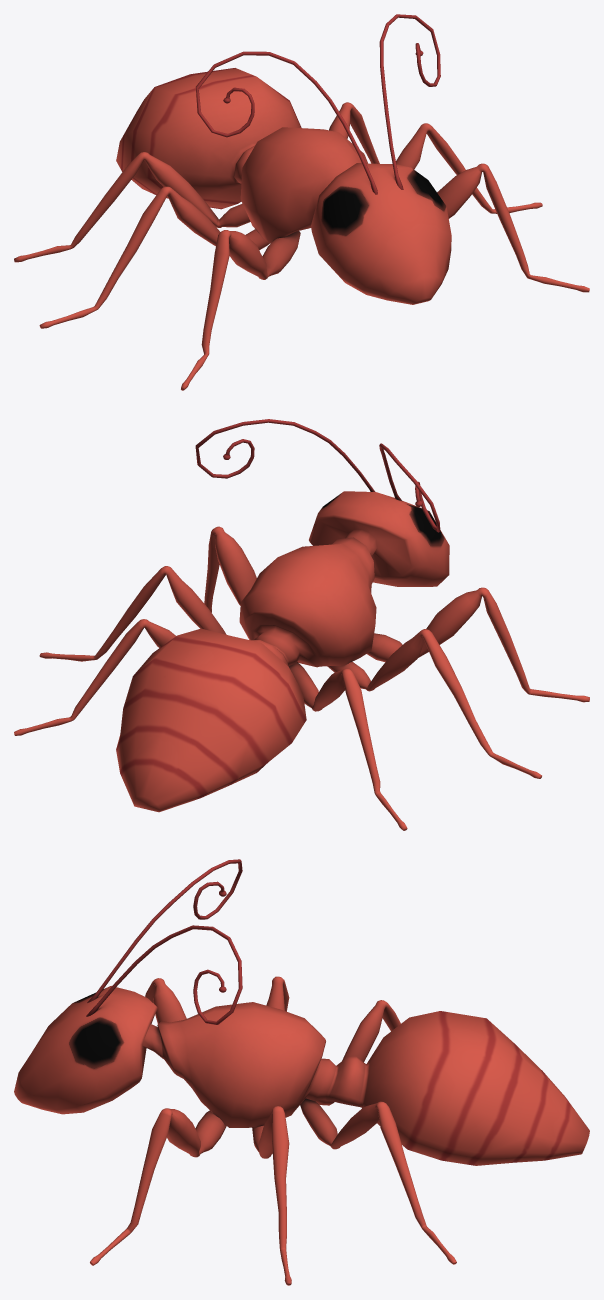
File: Ant_Mesh.fbx
3 views of the same model, one above another, from view 1: azimuth 30°, elevation 25°; view 2: azimuth 150°, elevation 25°; view 3: azimuth 270°, elevation 25° (orthographic). The views are drawn at different scales.
Visible parts, largest first — view 1: Ant:ant_body, Ant:leg_R_6, Ant:leg_R_5, Ant:leg_R_4, Ant:leg_R_60, Ant:pCylinder3, Ant:leg_R_40, Ant:pCylinder2, Ant:leg_R_50; view 2: Ant:ant_body, Ant:leg_R_6, Ant:leg_R_4, Ant:leg_R_5, Ant:leg_R_40, Ant:leg_R_60, Ant:leg_R_50, Ant:pCylinder2, Ant:pCylinder3; view 3: Ant:ant_body, Ant:leg_R_50, Ant:leg_R_60, Ant:leg_R_40, Ant:pCylinder2, Ant:leg_R_5, Ant:pCylinder3, Ant:leg_R_6, Ant:leg_R_4.
Boxes of the visible parts, box(x1,y1,x2,y2) form: Ant:ant_body: box(116, 68, 451, 304); Ant:leg_R_6: box(181, 230, 300, 390); Ant:leg_R_5: box(14, 152, 250, 262); Ant:leg_R_4: box(39, 186, 269, 328); Ant:leg_R_60: box(437, 163, 589, 292); Ant:pCylinder3: box(195, 51, 377, 194); Ant:leg_R_40: box(396, 123, 542, 213); Ant:pCylinder2: box(379, 14, 440, 189); Ant:leg_R_50: box(329, 102, 379, 163); Ant:ant_body: box(116, 491, 449, 812); Ant:leg_R_6: box(367, 587, 589, 702); Ant:leg_R_4: box(327, 629, 541, 778); Ant:leg_R_5: box(288, 662, 407, 830); Ant:leg_R_40: box(39, 566, 226, 661); Ant:leg_R_60: box(204, 526, 256, 612); Ant:leg_R_50: box(14, 619, 175, 735); Ant:pCylinder2: box(195, 419, 375, 491); Ant:pCylinder3: box(379, 443, 440, 532); Ant:ant_body: box(14, 986, 589, 1165); Ant:leg_R_50: box(300, 1098, 456, 1264); Ant:leg_R_60: box(90, 1108, 226, 1265); Ant:leg_R_40: box(252, 1106, 291, 1285); Ant:pCylinder2: box(86, 925, 242, 1024); Ant:leg_R_5: box(315, 1000, 400, 1105); Ant:pCylinder3: box(87, 859, 242, 1002); Ant:leg_R_6: box(145, 978, 186, 1023); Ant:leg_R_4: box(266, 976, 289, 1011).
Size of the model in its own units: 10.35 by 5.2 by 10.07.
1 material, 1 textured.
